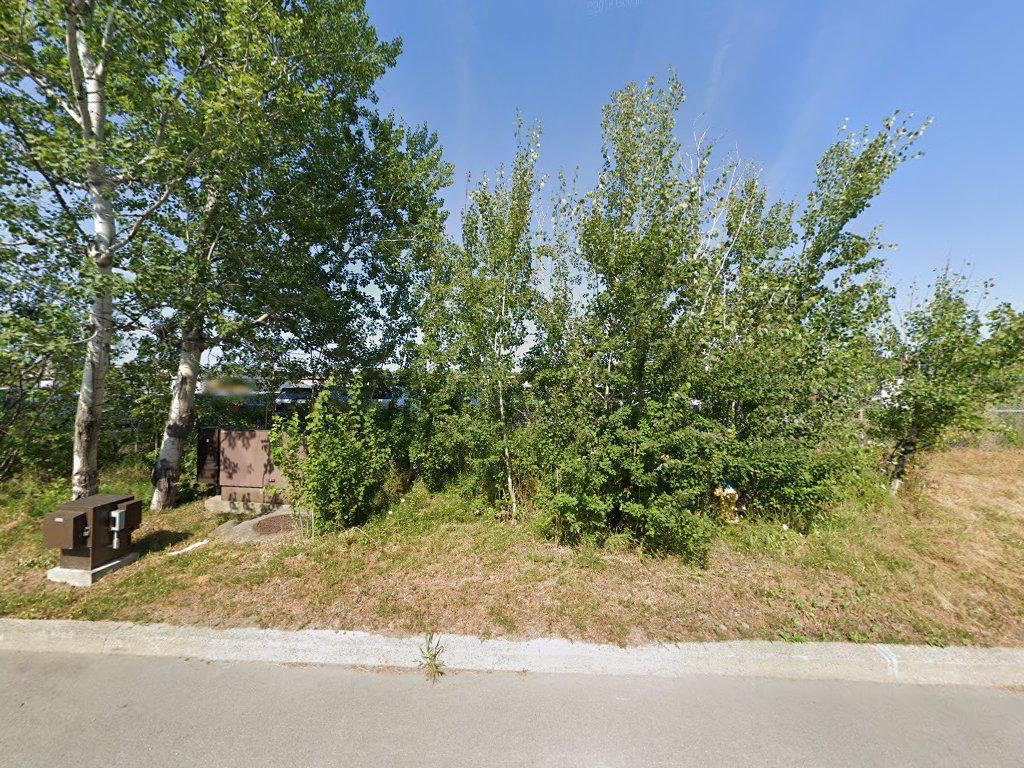trunk: (146, 389, 189, 521), (71, 361, 105, 499)
